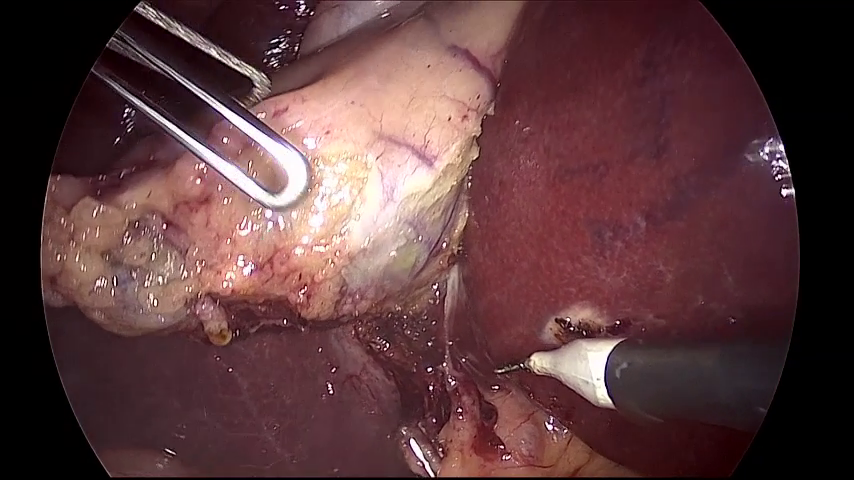grasper: (92, 1, 306, 204)
